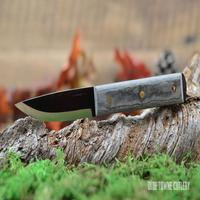knife: (10, 70, 200, 126)
